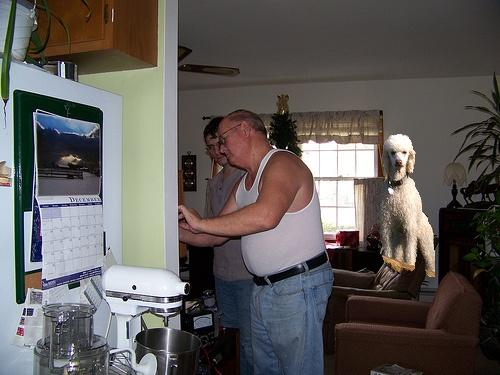tampered: (379, 135, 435, 277)
